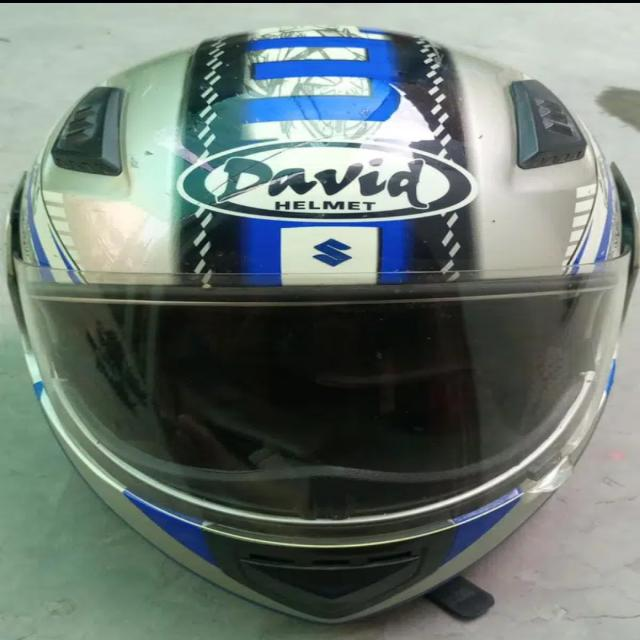Helmet: (51, 8, 631, 630)
